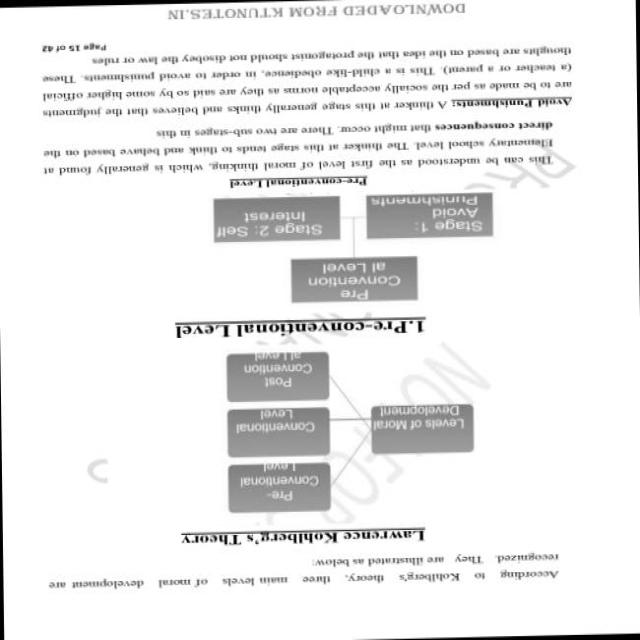Figure Detection - v3 Dataset Version2: (199, 338, 492, 526), (190, 182, 511, 317)
